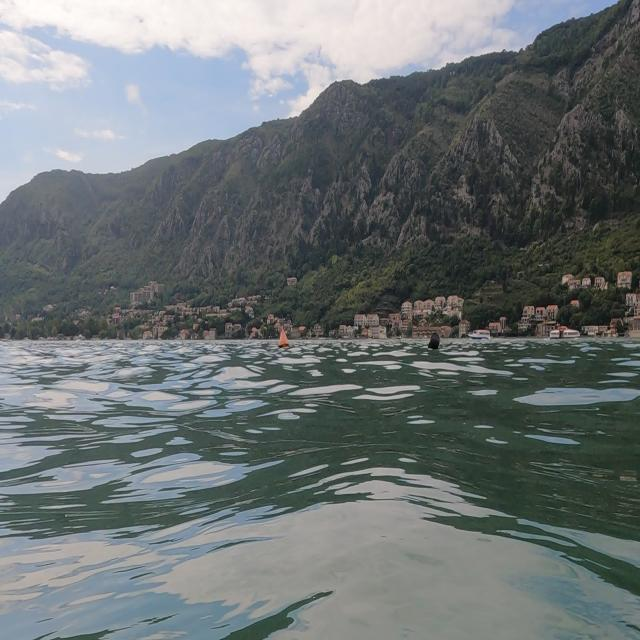buoy: (424, 328, 450, 356), (274, 318, 294, 354)
